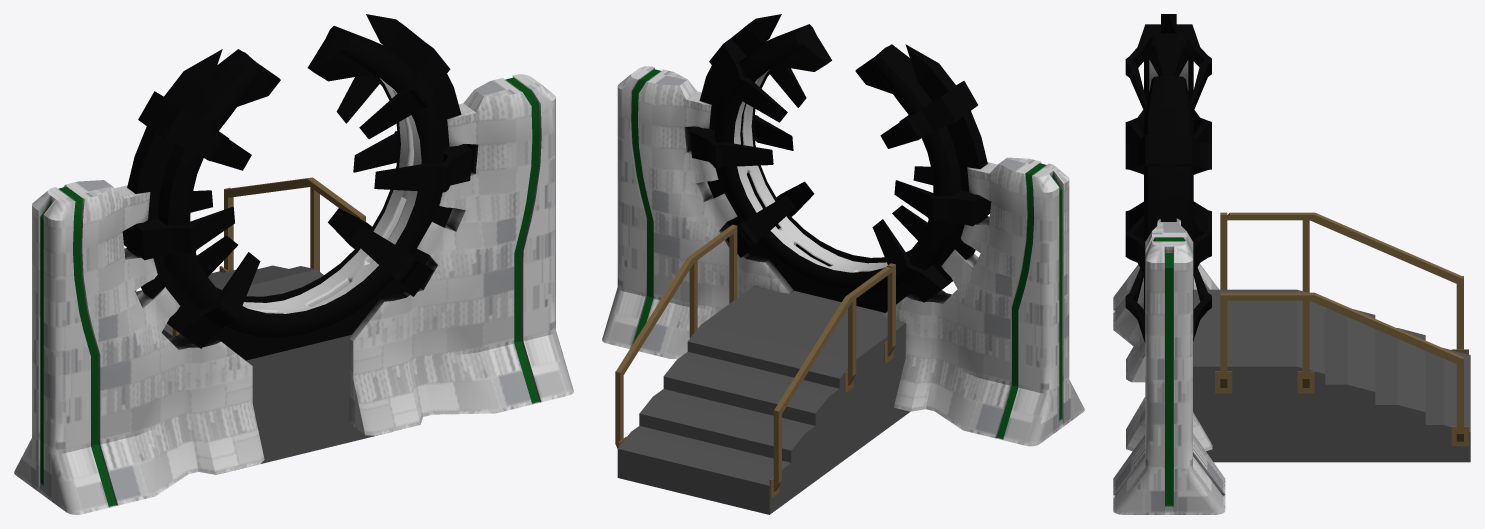
Rendered from HandAssemblyMachine-Baked.fbx.
The picture shows the model from 3 angles, left to right: view 1: azimuth 30°, elevation 25°; view 2: azimuth 150°, elevation 25°; view 3: azimuth 270°, elevation 25°; orthographic projection. The views are drawn at different scales.
Visible parts, largest first — view 1: Cube.005, Torus.008, Torus.007, Cube.006, Cube.009, Cube.008; view 2: Cube.005, Cube.006, Torus.008, Torus.007, Cube.009, Cube.007, Cube.008; view 3: Cube.006, Cube.005, Torus.008, Torus.007, Cube.009, Cube.007, Cube.008.
Boxes of the visible parts, <box> form: Cube.005: <box>14,74,573,514</box>; Torus.008: <box>122,14,472,360</box>; Torus.007: <box>157,25,443,337</box>; Cube.006: <box>136,265,391,473</box>; Cube.009: <box>219,177,361,272</box>; Cube.008: <box>126,187,319,293</box>; Cube.005: <box>602,66,1084,446</box>; Cube.006: <box>617,286,909,514</box>; Torus.008: <box>690,14,991,312</box>; Torus.007: <box>714,24,961,292</box>; Cube.009: <box>615,227,892,498</box>; Cube.007: <box>729,224,895,363</box>; Cube.008: <box>689,260,856,393</box>; Cube.006: <box>1193,289,1470,462</box>; Cube.005: <box>1113,218,1225,514</box>; Torus.008: <box>1125,14,1211,343</box>; Torus.007: <box>1144,33,1193,310</box>; Cube.009: <box>1227,212,1468,446</box>; Cube.007: <box>1215,212,1232,393</box>; Cube.008: <box>1297,220,1314,393</box>.
Bounding box in the file's own units: 1181 × 937 × 807.
